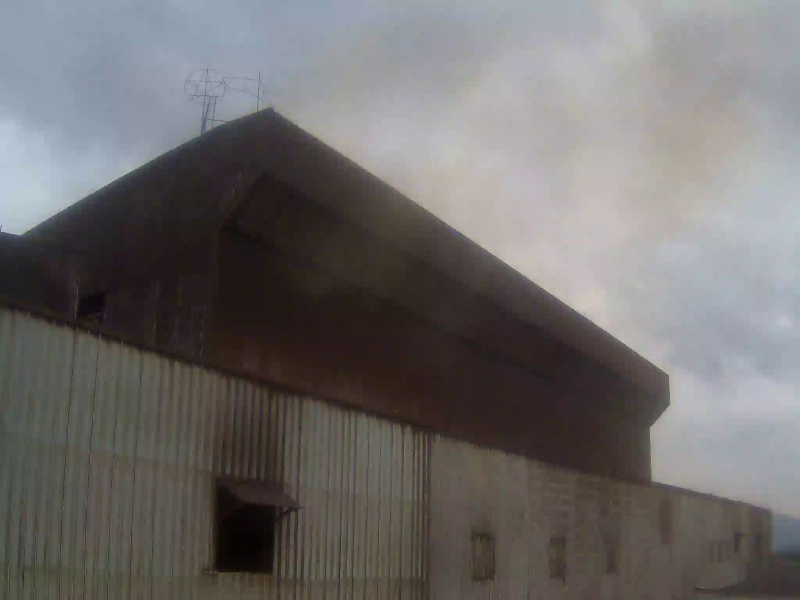Ruim: (289, 10, 745, 314)
